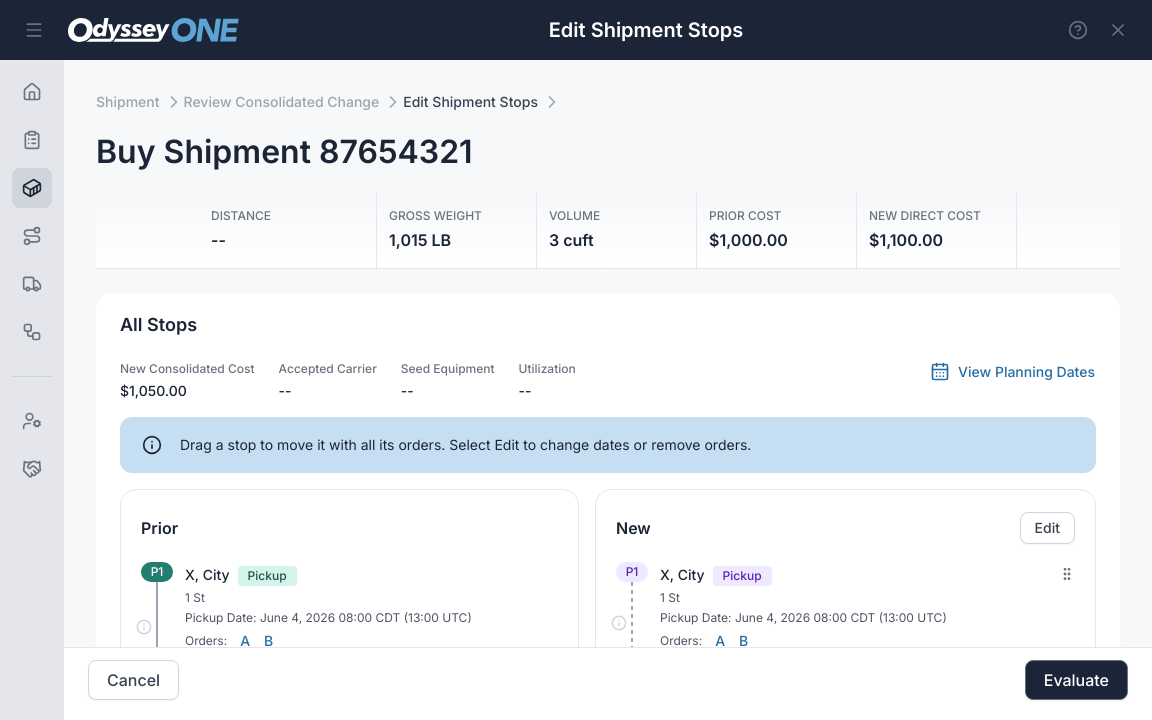
Test: OrderChangeEditStopsRoute › Approve shows an error inside the routing modal and does not navigate when the save fails (LINX-15872)
Click the button "Evaluate": (1076, 680) 1025,660 -> 1128,700
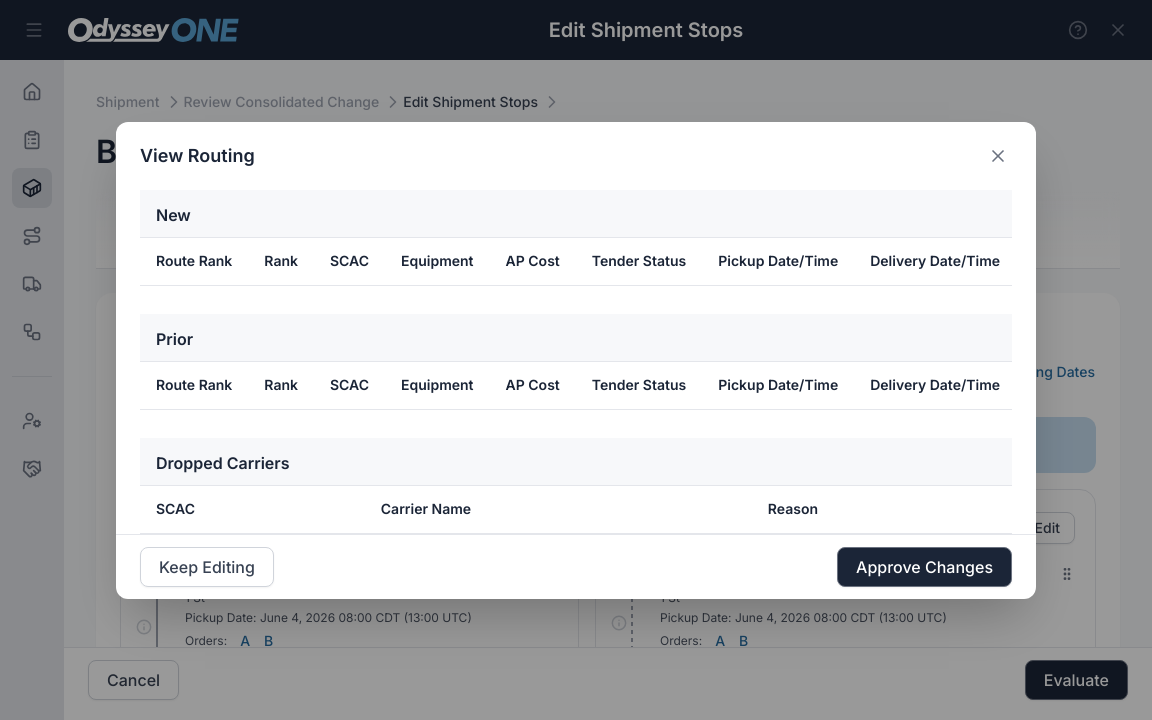
Click the button "Approve Changes": (925, 566) 837,546 -> 1012,586
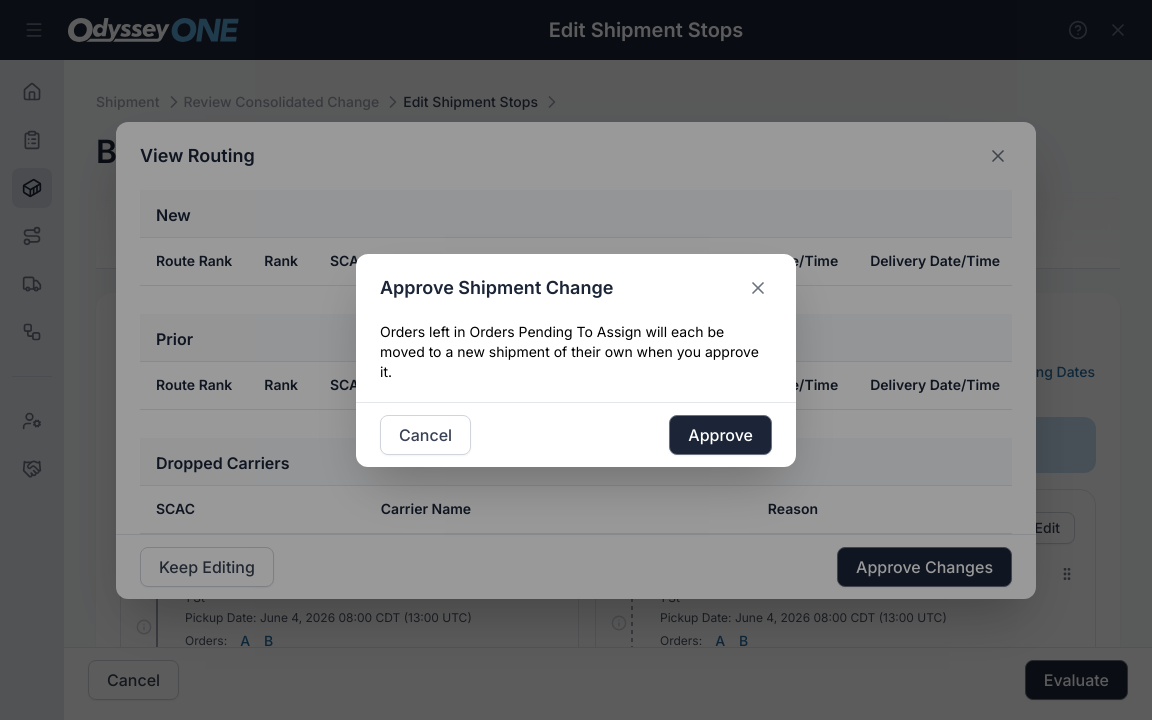
Click the button "Approve": (721, 434) 669,414 -> 772,454
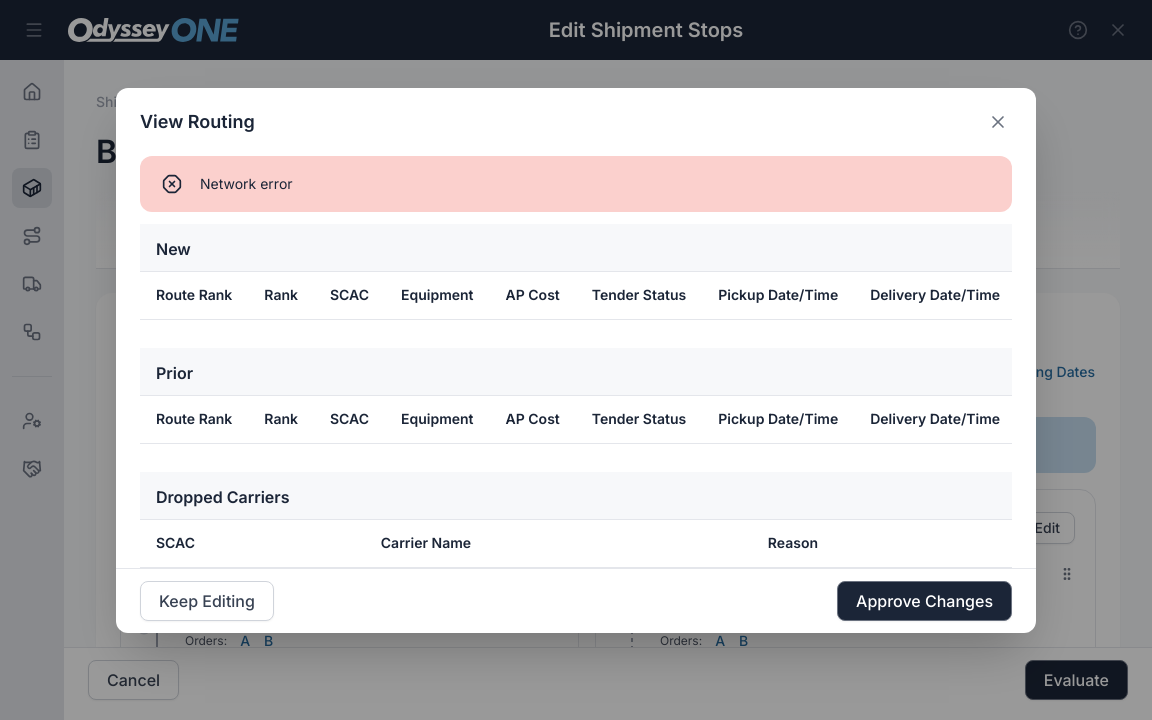
expect the dialog "View Routing" is shown: met
expect the text "Network error" is shown: met, box 200,174 -> 293,192
